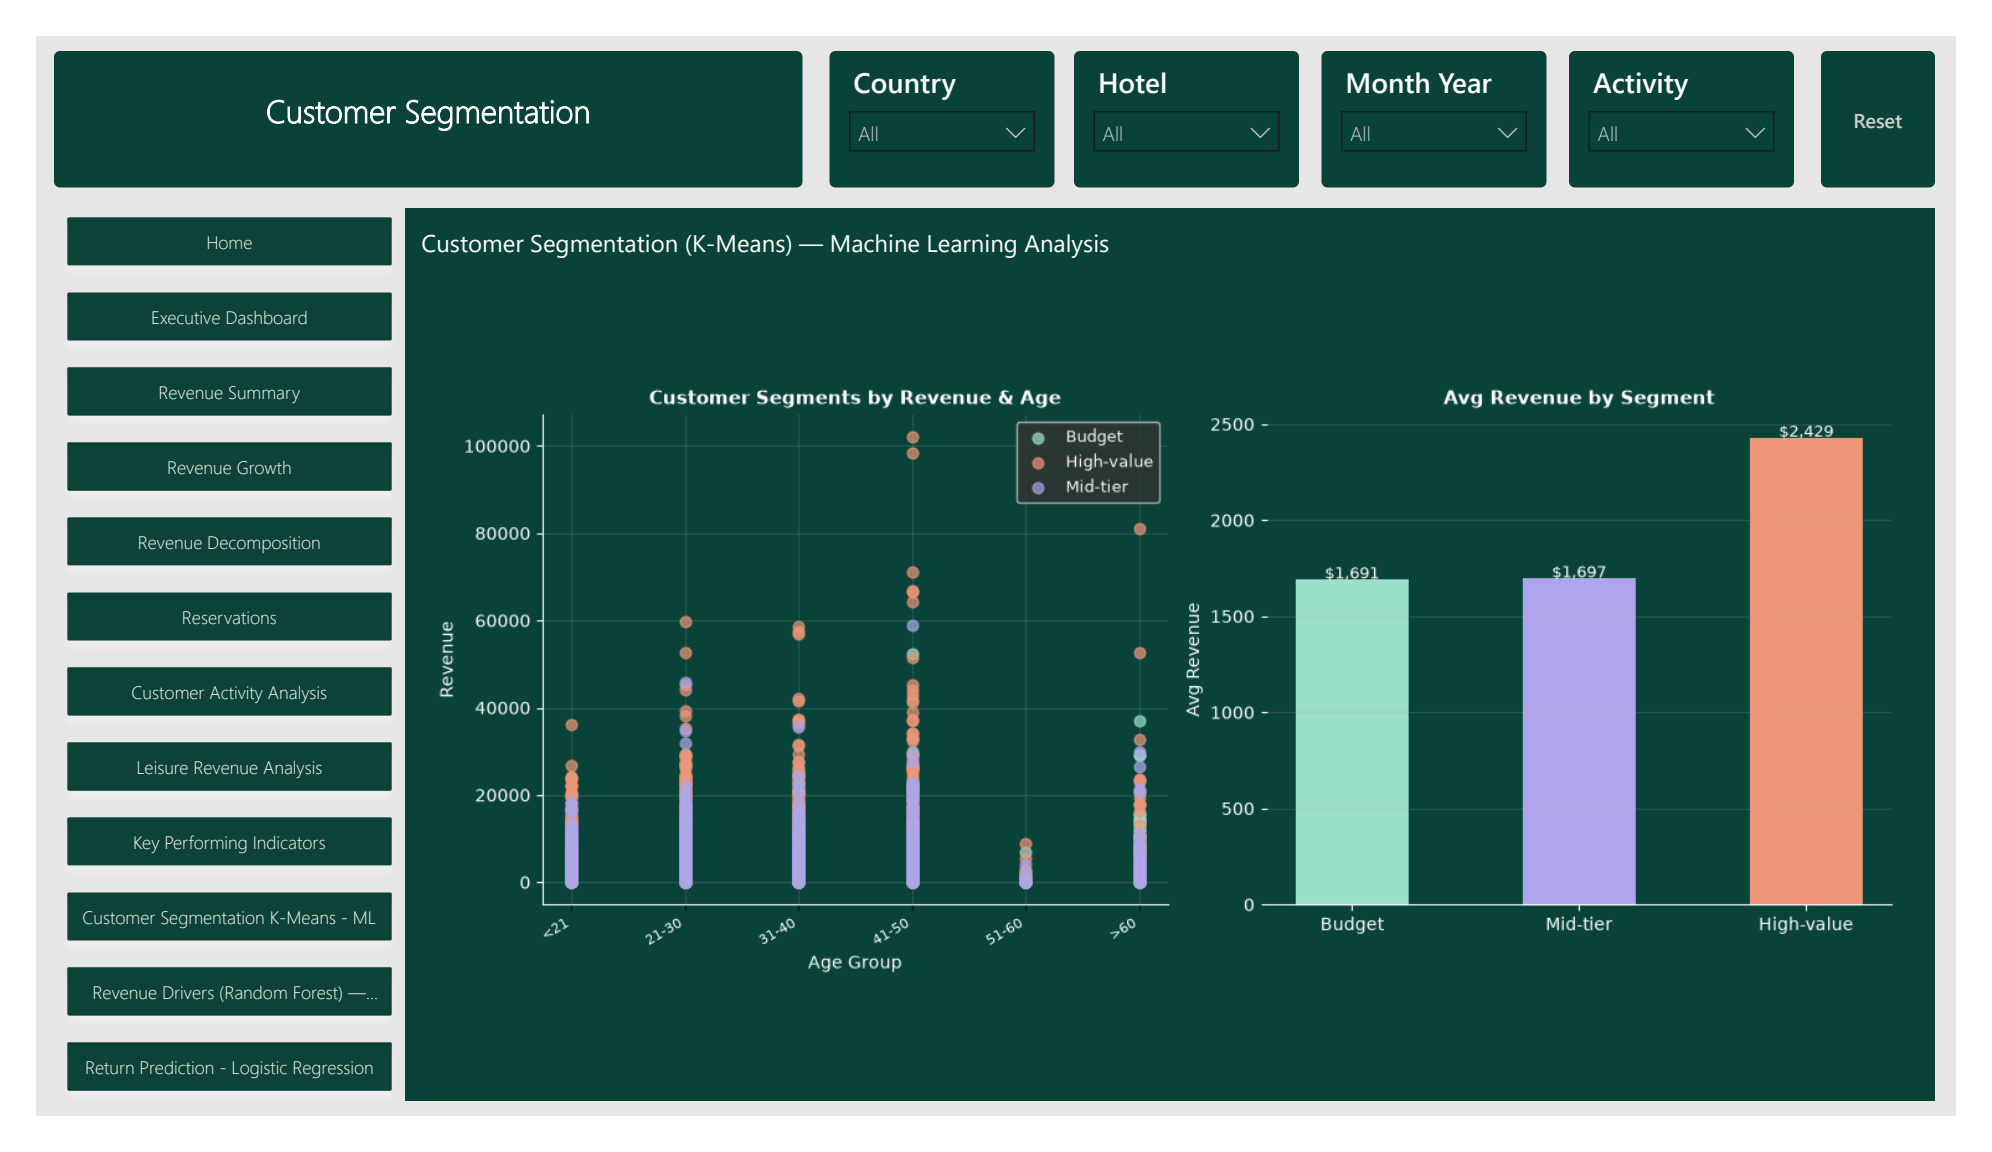

The dashboard page shown, as its layout file describes it:
{"tool":"powerbi","page":{"name":"Customer Segmentation K-Means - ML","canvas":[1280,720],"ordinal":9},"visuals":[{"type":"shape","box":[246,114.9,1019.9,595.2],"z":0},{"type":"textbox","box":[11.7,9.9,499.2,90.7],"z":1000},{"type":"slicer","fields":{"Values":["Country.Country"]},"box":[528.8,9.9,150,90.7],"z":2000},{"type":"pageNavigator","box":[11.7,112.2,234.3,607.8],"z":3000},{"type":"slicer","fields":{"Values":["Hotel Visited.Hotel"]},"box":[692.2,9.9,150,90.7],"z":4000},{"type":"slicer","fields":{"Values":["Calender.MonthYear"]},"box":[857.4,9.9,150,90.7],"z":5000},{"type":"slicer","fields":{"Values":["Primary interest.Primary Interest"]},"box":[1021.6,9.9,150,90.7],"z":6000},{"type":"actionButton","box":[1189.5,9.9,76.3,90.7],"z":7000},{"type":"pythonVisual","title":"Customer Segmentation (K-Means) — Machine Learning Analysis","fields":{"Values":["Data.Revenue","Age.Age Group","Primary interest.Primary Interest","Source.Source"]},"box":[252.2,126.6,1002.2,574.7],"z":13001}]}

Visuals, with their boxes in screenshot pixels (x1, y1, x2, y2), scaled from the page's 1280x720 canvas onto the 1992x1152 screenshot:
shape: box(383, 184, 1970, 1136)
textbox: box(18, 16, 795, 161)
slicer - Country.Country: box(823, 16, 1056, 161)
pageNavigator: box(18, 180, 383, 1151)
slicer - Hotel Visited.Hotel: box(1077, 16, 1311, 161)
slicer - Calender.MonthYear: box(1334, 16, 1568, 161)
slicer - Primary interest.Primary Interest: box(1590, 16, 1823, 161)
actionButton: box(1851, 16, 1970, 161)
"Customer Segmentation (K-Means) — Machine Learning Analysis" pythonVisual: box(392, 203, 1952, 1122)
